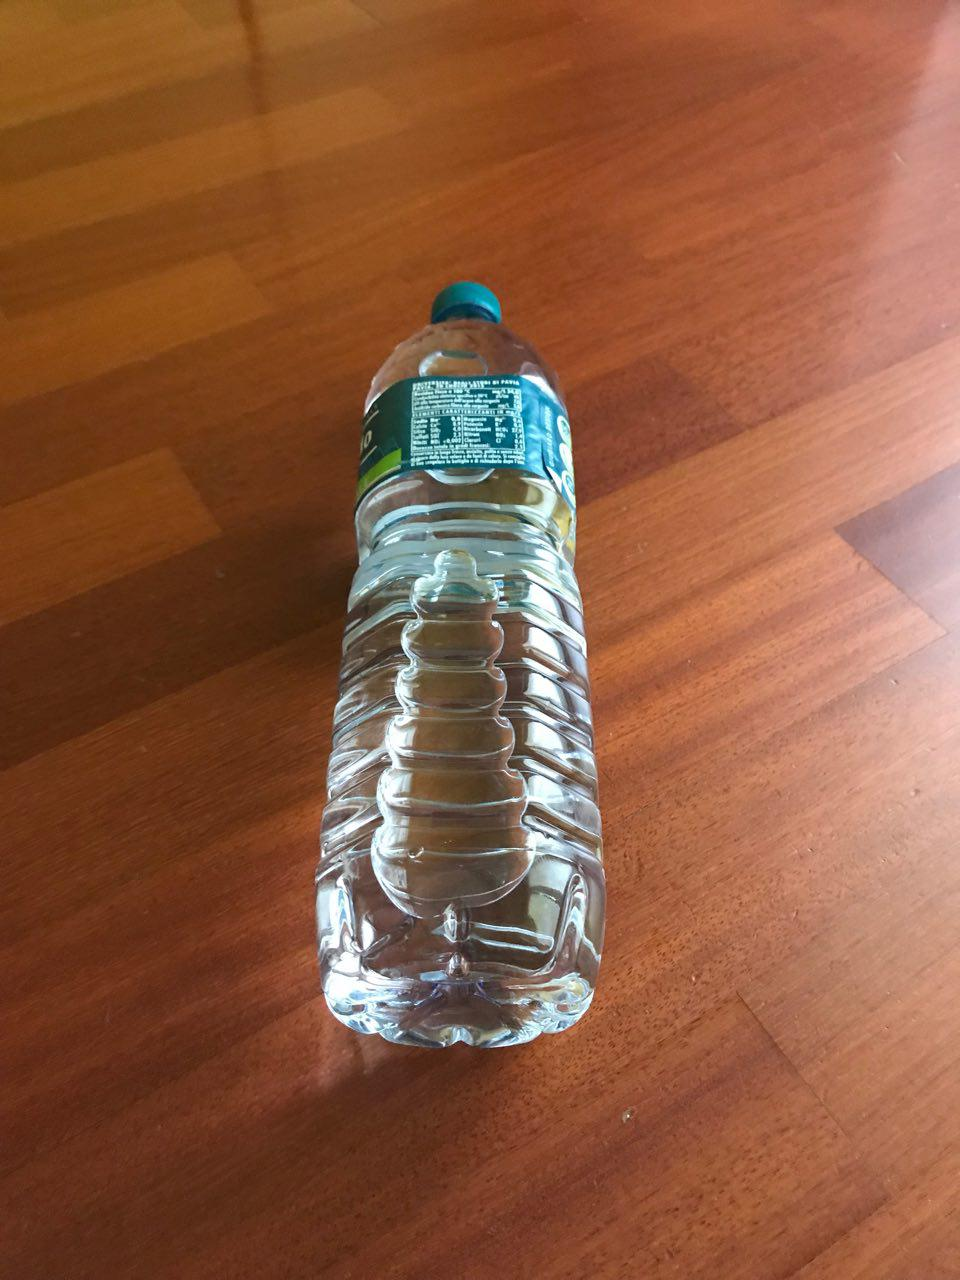san_bernardo: (310, 278, 610, 1053)
